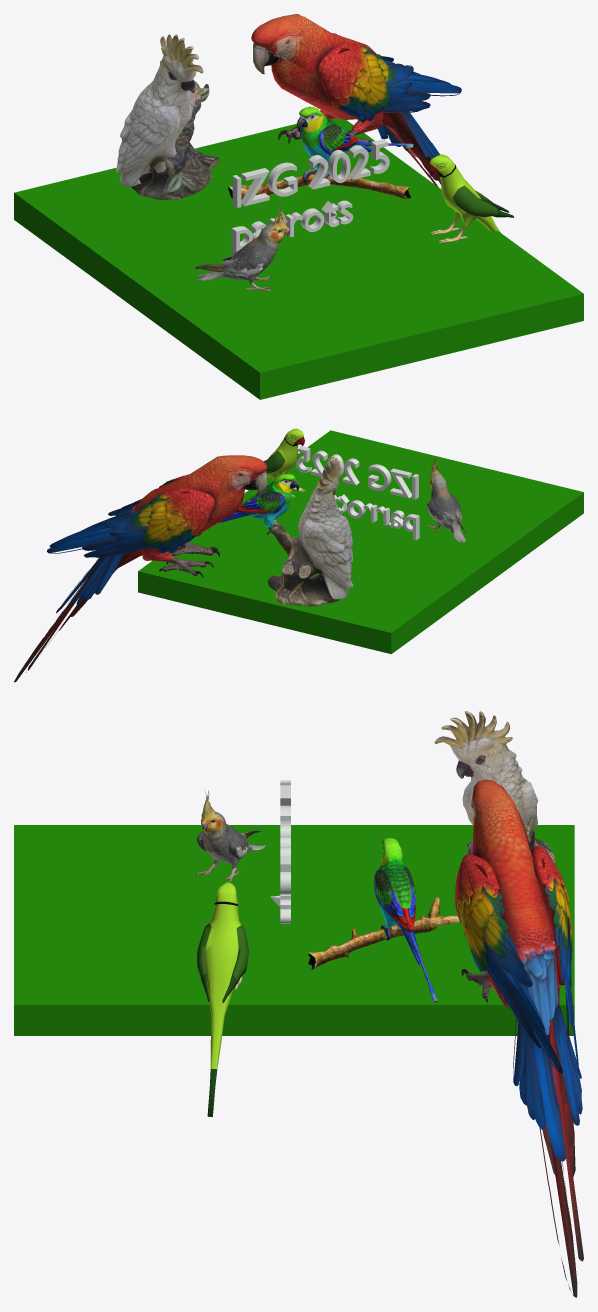
File: parrots.glb
The picture shows the model from 3 angles, top to bottom: view 1: azimuth 30°, elevation 25°; view 2: azimuth 150°, elevation 25°; view 3: azimuth 270°, elevation 25°; orthographic projection. The views are drawn at different scales.
Parts seen in each view (by area): view 1: Plane, node_id30_0.001, Object_2.002, Text, Object_2, Cube_0.001, Object_4.005, Object_5.003; view 2: Plane, node_id30_0.001, Object_2.002, Text, Object_2, Cube_0.001, Object_4.005, Object_5.003; view 3: Plane, node_id30_0.001, Object_2.002, Cube_0.001, Object_2, Object_4.005, Text, Object_5.003.
Part boxes in pixels (x1,y1,x2,y2): Plane: [14, 118, 583, 399]; node_id30_0.001: [251, 14, 461, 187]; Object_2.002: [116, 34, 219, 199]; Text: [231, 139, 389, 254]; Object_2: [228, 106, 413, 199]; Cube_0.001: [428, 154, 514, 243]; Object_4.005: [195, 209, 289, 291]; Object_5.003: [194, 204, 289, 291]; Plane: [138, 430, 583, 654]; node_id30_0.001: [14, 455, 267, 682]; Object_2.002: [267, 457, 353, 606]; Text: [296, 446, 419, 540]; Object_2: [219, 473, 298, 554]; Cube_0.001: [264, 428, 305, 497]; Object_4.005: [426, 462, 465, 542]; Object_5.003: [426, 456, 465, 542]; Plane: [14, 825, 574, 1035]; node_id30_0.001: [455, 779, 583, 1297]; Object_2.002: [434, 711, 555, 863]; Cube_0.001: [197, 882, 248, 1116]; Object_2: [308, 838, 460, 1002]; Object_4.005: [197, 800, 264, 882]; Text: [270, 780, 290, 923]; Object_5.003: [195, 790, 265, 882].
Size of the model in its own units: 41.96 by 28.27 by 37.75.
Materials: 16 (4 with a texture image).
